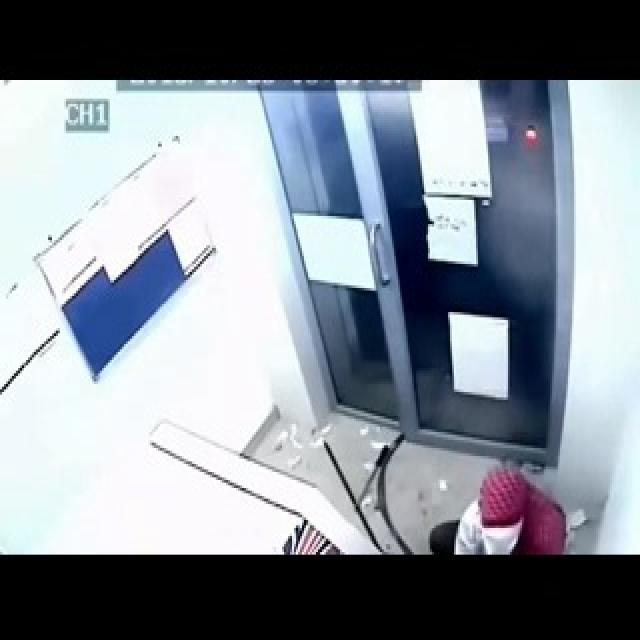thief: (428, 434, 559, 547)
